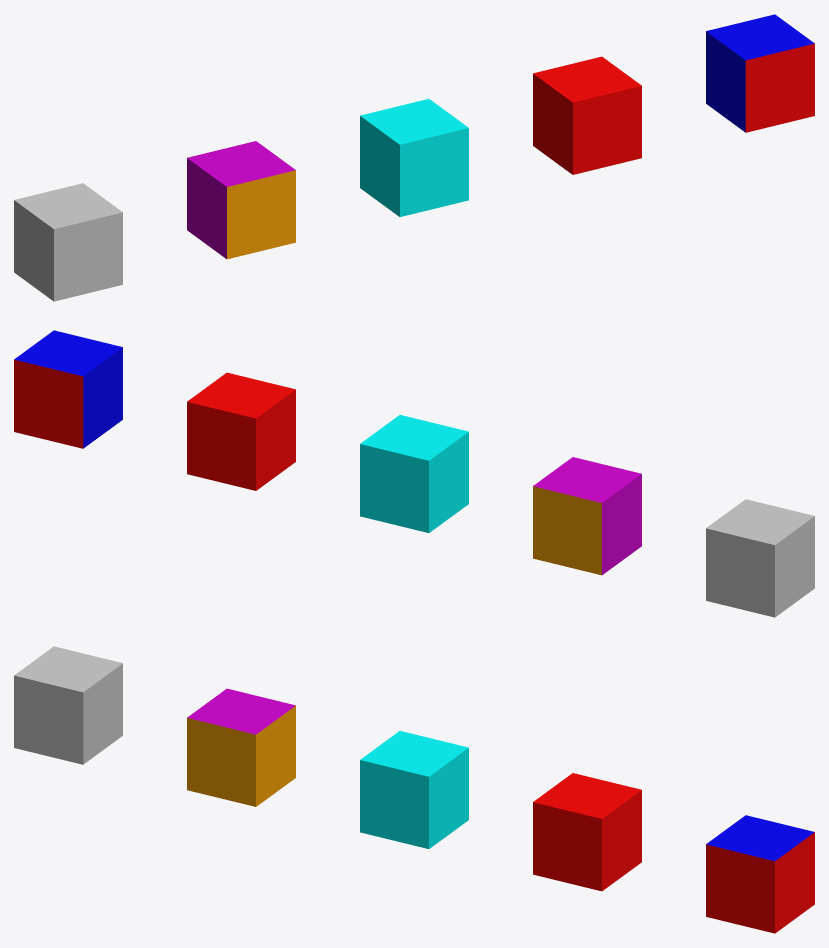
File: verify.obj
3 views of the same model, one above another, from view 1: azimuth 30°, elevation 25°; view 2: azimuth 150°, elevation 25°; view 3: azimuth 330°, elevation 25° (orthographic).
Visible parts, largest first — view 1: cube3, object 2; view 2: cube3, object 2; view 3: cube3, object 2.
Part boxes in pixels (x1=…): cube3: x1=360, y1=14, x2=814, y2=216; object 2: x1=14, y1=141, x2=295, y2=301; cube3: x1=14, y1=330, x2=468, y2=532; object 2: x1=533, y1=457, x2=814, y2=617; cube3: x1=360, y1=731, x2=814, y2=933; object 2: x1=14, y1=646, x2=295, y2=806.
Size of the model in its own units: 220 by 20 by 20.
